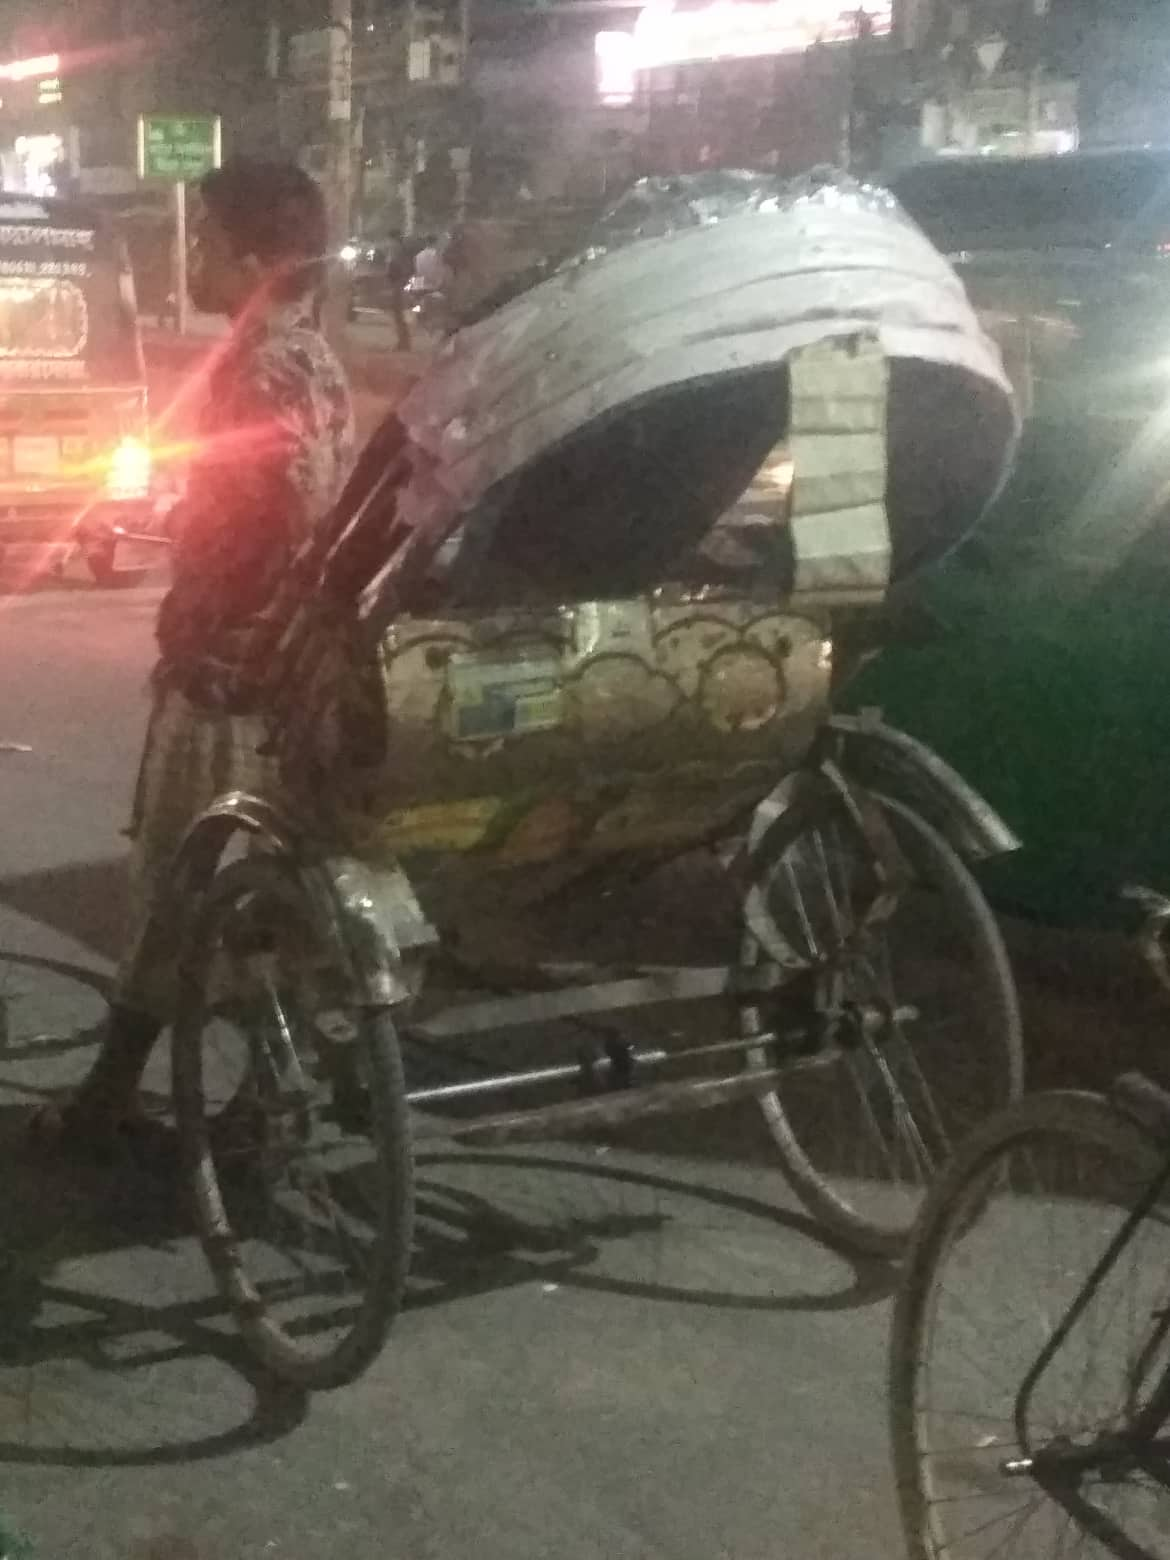Rickshaw: (136, 122, 1067, 1398)
